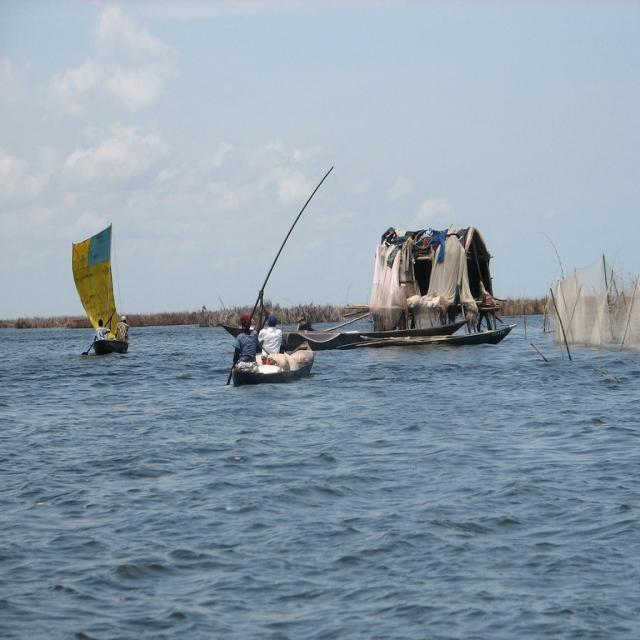boat: (231, 344, 315, 389), (88, 319, 136, 366)
